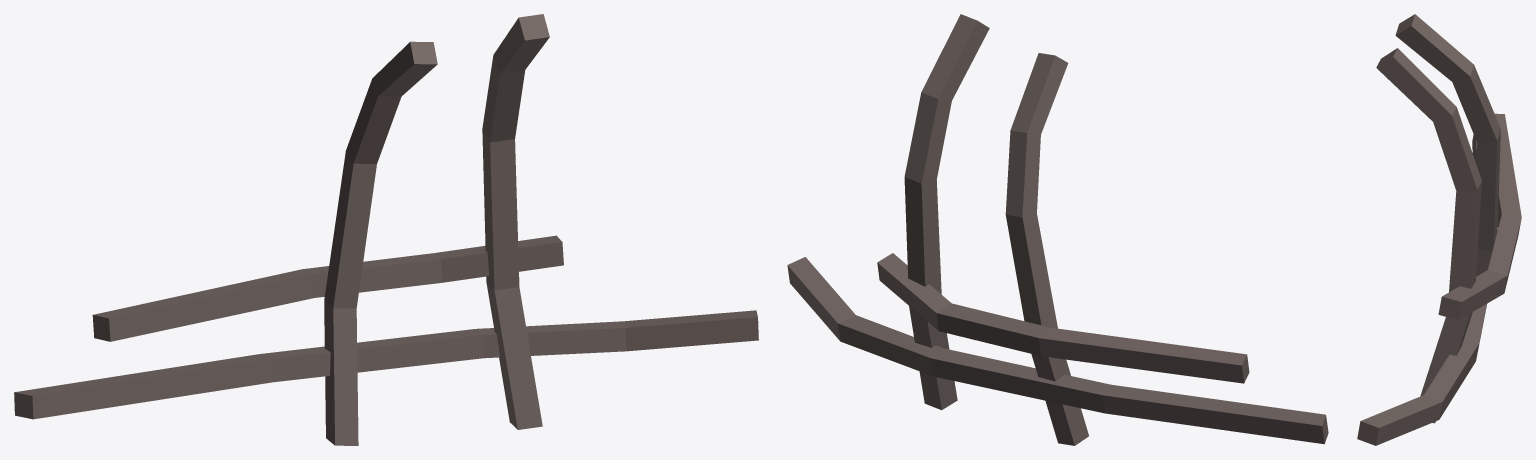
File: Ship_024.glb
3 renders of one model, left to right at view 1: azimuth 30°, elevation 25°; view 2: azimuth 150°, elevation 25°; view 3: azimuth 270°, elevation 25°, orthographic. The views are drawn at different scales.
Parts seen in each view (by area): view 1: Ship_024; view 2: Ship_024; view 3: Ship_024.
Part boxes in pixels (x1,y1,x2,y2): Ship_024: (14,14,758,445); Ship_024: (787,14,1328,445); Ship_024: (1357,14,1521,445).
Bounding box in the file's own units: 6.17 × 3.73 × 1.54.
1 material, 1 textured.
